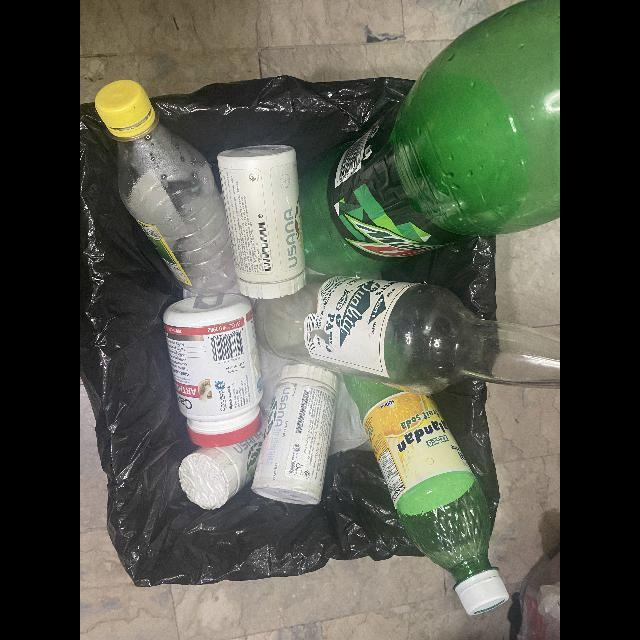glass_bottle: (253, 274, 560, 396)
plastic_bottle: (298, 0, 560, 277), (343, 375, 509, 617), (94, 80, 236, 295), (161, 293, 263, 449), (217, 145, 307, 301), (251, 364, 338, 506), (178, 431, 263, 510)
